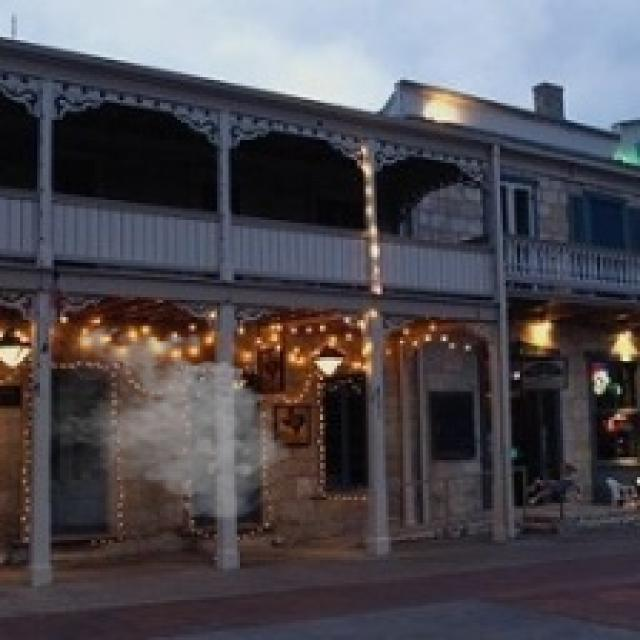Smoke: (49, 320, 298, 526)
